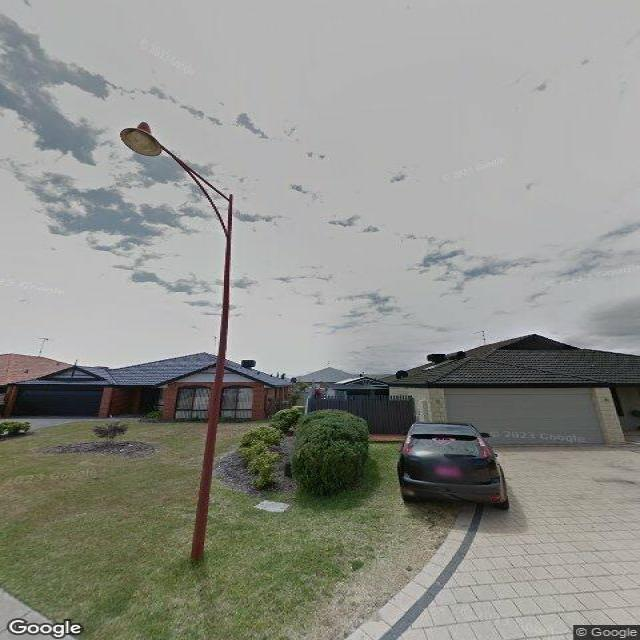steel-pole: (189, 194, 235, 562)
streetlight: (115, 120, 235, 238)
